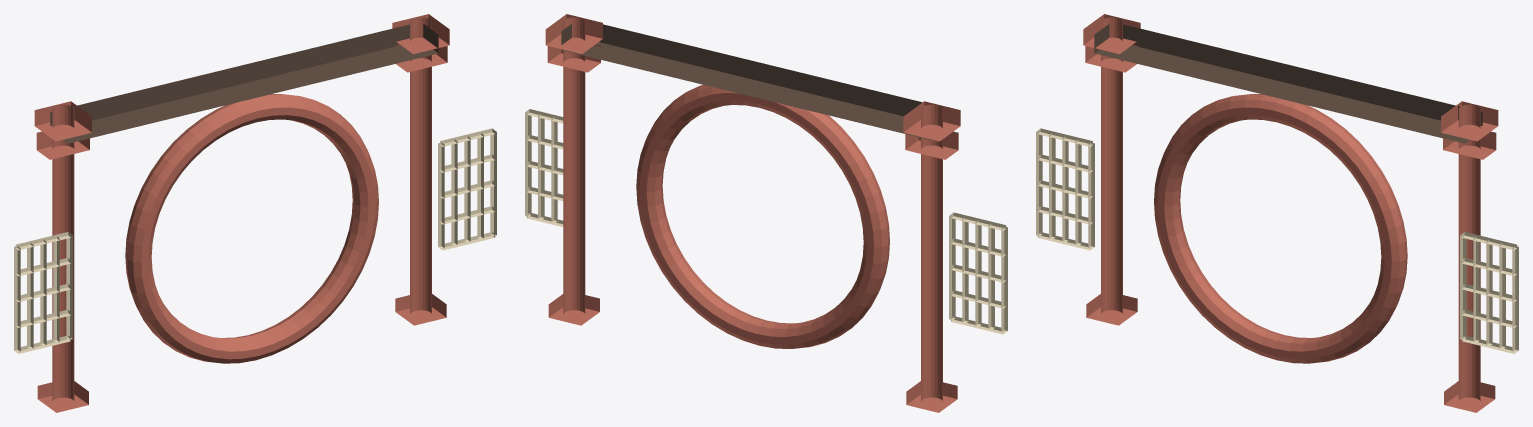
The model's file is china_moon_gate.glb.
3 views of the same model, side by side, from view 1: azimuth 30°, elevation 25°; view 2: azimuth 150°, elevation 25°; view 3: azimuth 330°, elevation 25° (orthographic).
Parts seen in each view (by area): view 1: china_moon_gate; view 2: china_moon_gate; view 3: china_moon_gate.
Part boxes in pixels (x1,y1,x2,y2): china_moon_gate: [14, 14, 496, 412]; china_moon_gate: [525, 14, 1007, 412]; china_moon_gate: [1036, 14, 1518, 412].
Size of the model in its own units: 7.51 by 4.38 by 0.7262.
